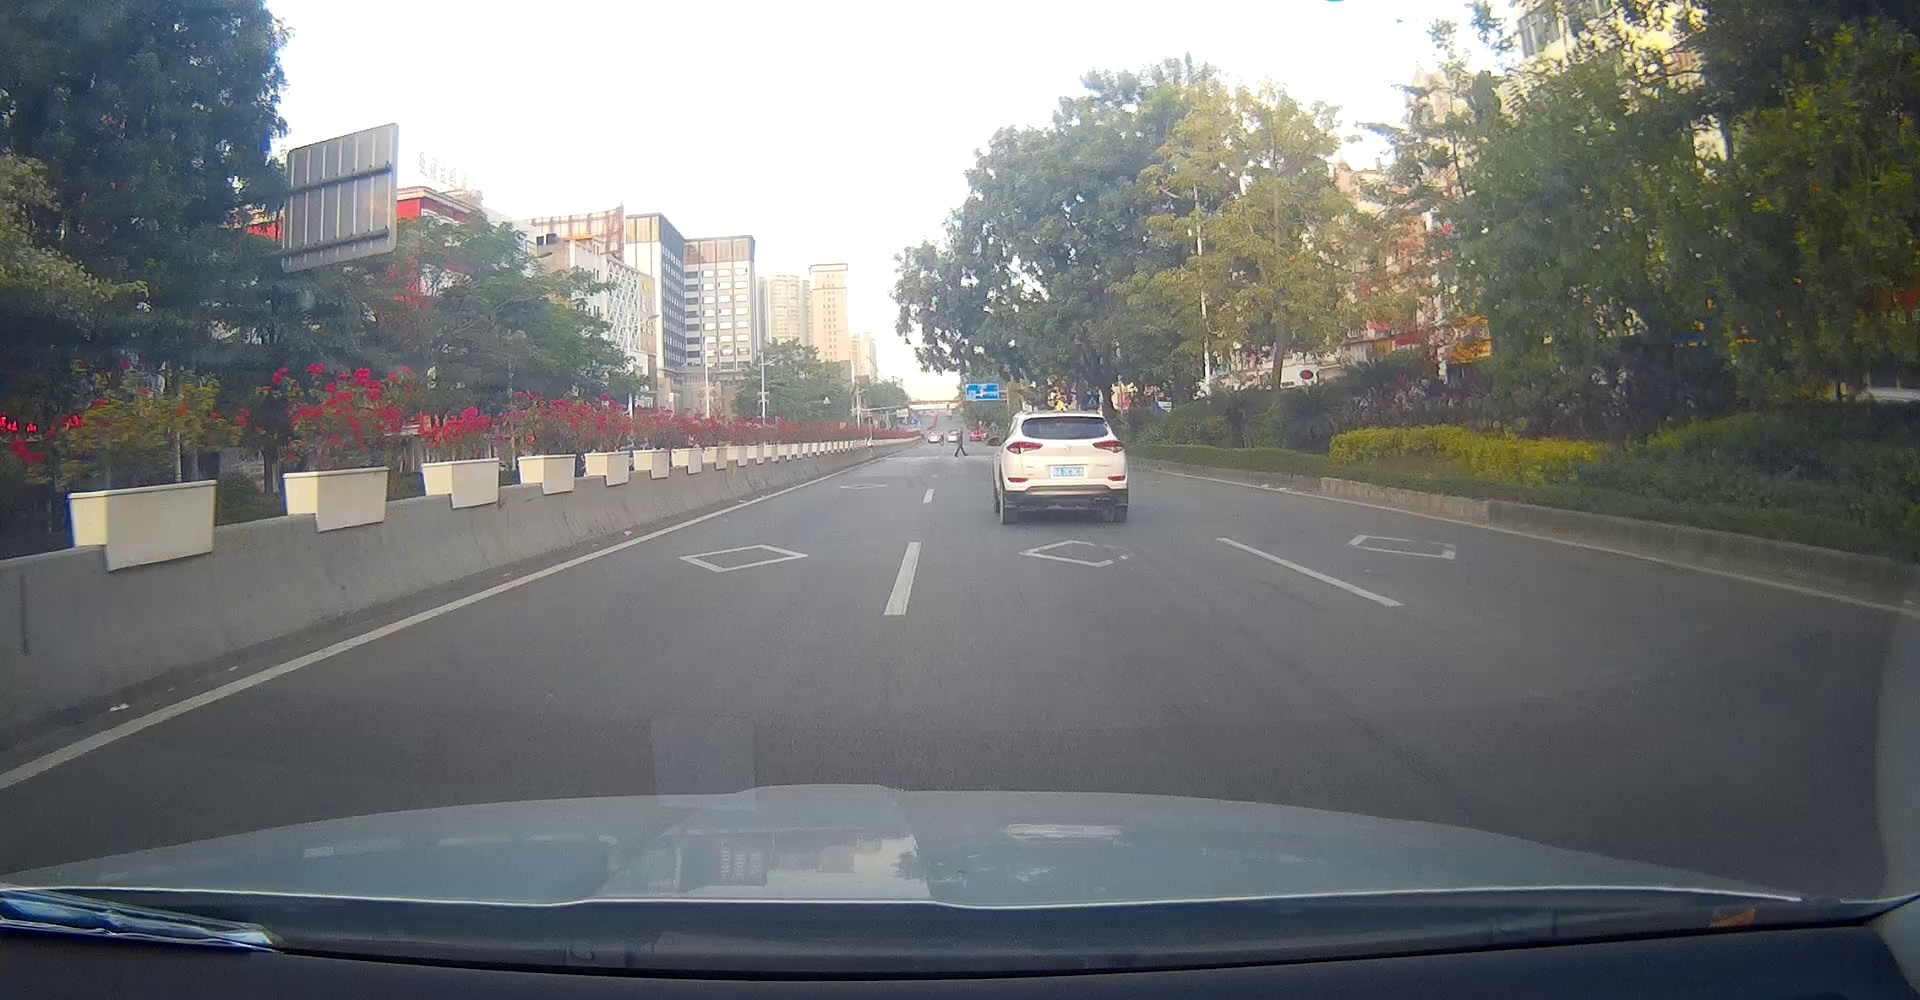L_light: (1004, 442, 1043, 454)
R_light: (1092, 440, 1124, 453)
T_light: (1057, 418, 1077, 421)
day-no: (1002, 412, 1128, 522)
